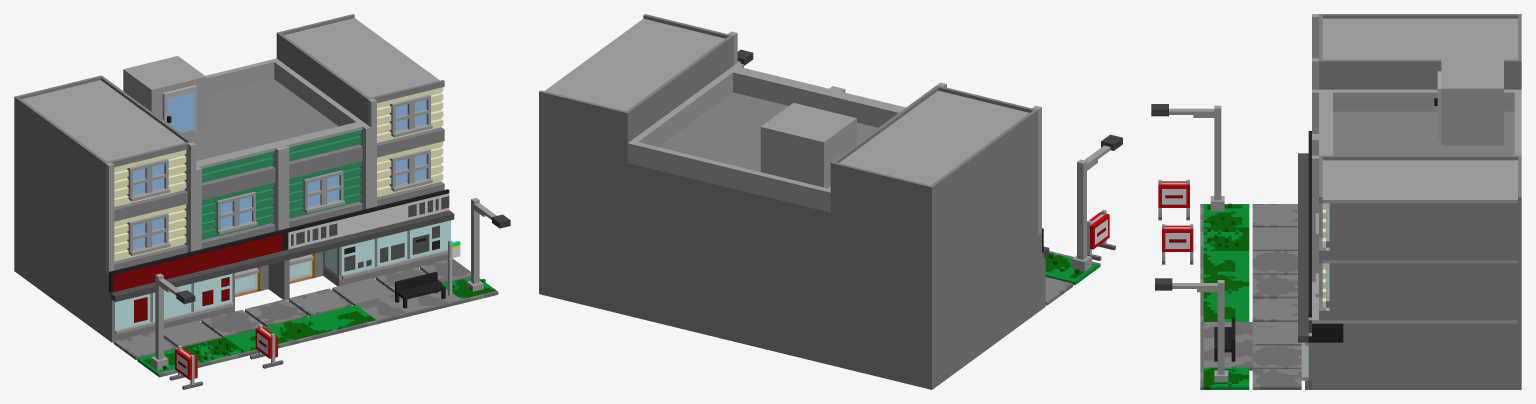
File: scene_store9.obj
The picture shows the model from 3 angles, left to right: view 1: azimuth 30°, elevation 25°; view 2: azimuth 150°, elevation 25°; view 3: azimuth 270°, elevation 25°; orthographic projection. The views are drawn at different scales.
Bounding box in the file's own units: 12.4 × 6.4 × 10.6.
Materials: 1 (1 with a texture image).
